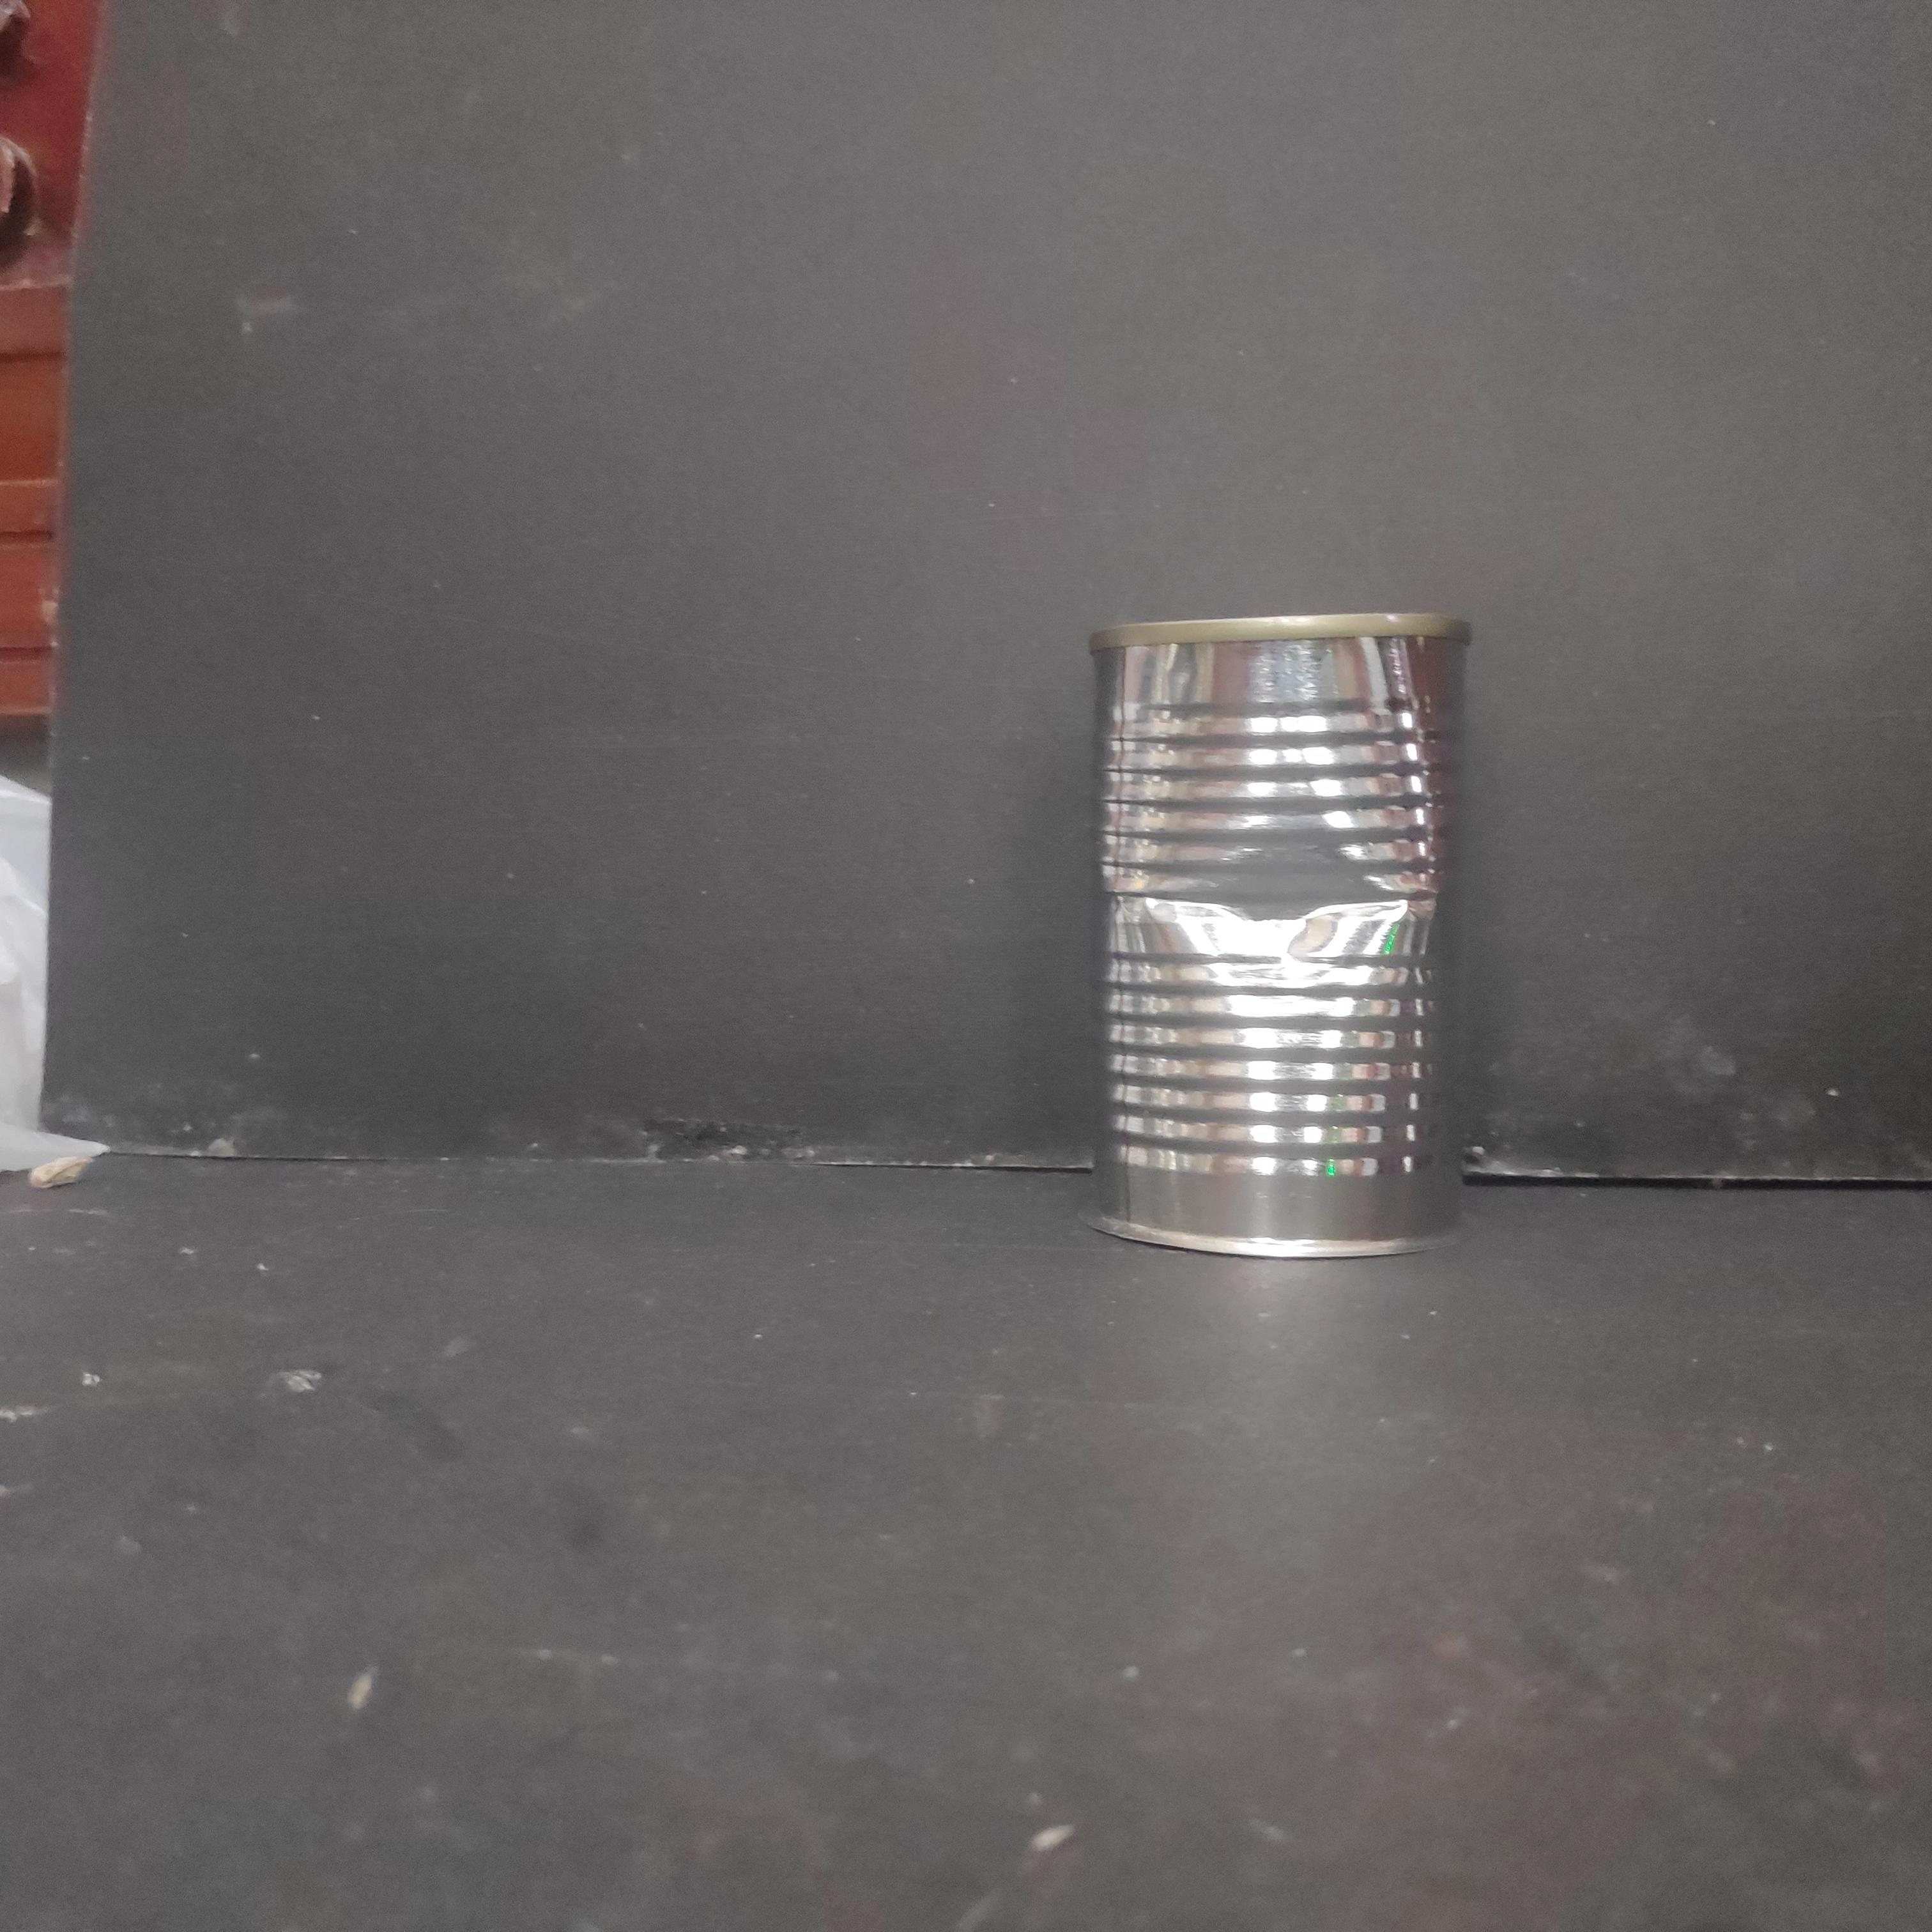Minor Defect: (1074, 598, 1483, 1281)
